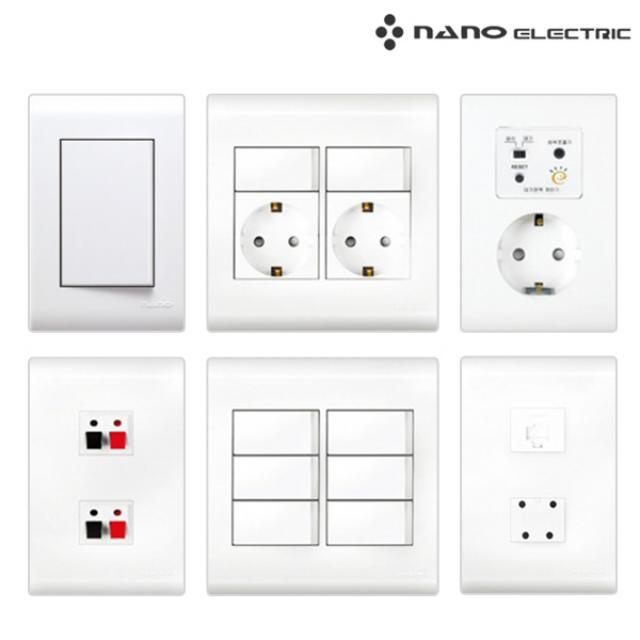typeb: (194, 82, 451, 346), (458, 90, 622, 344)
